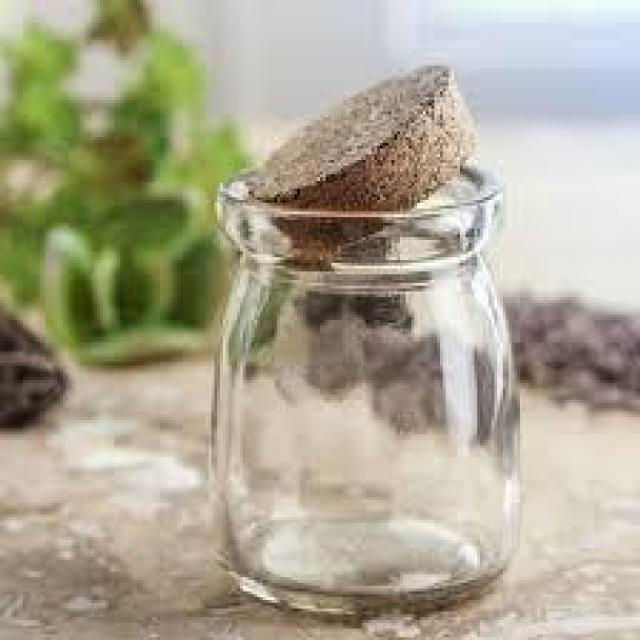glass: (207, 56, 527, 622)
